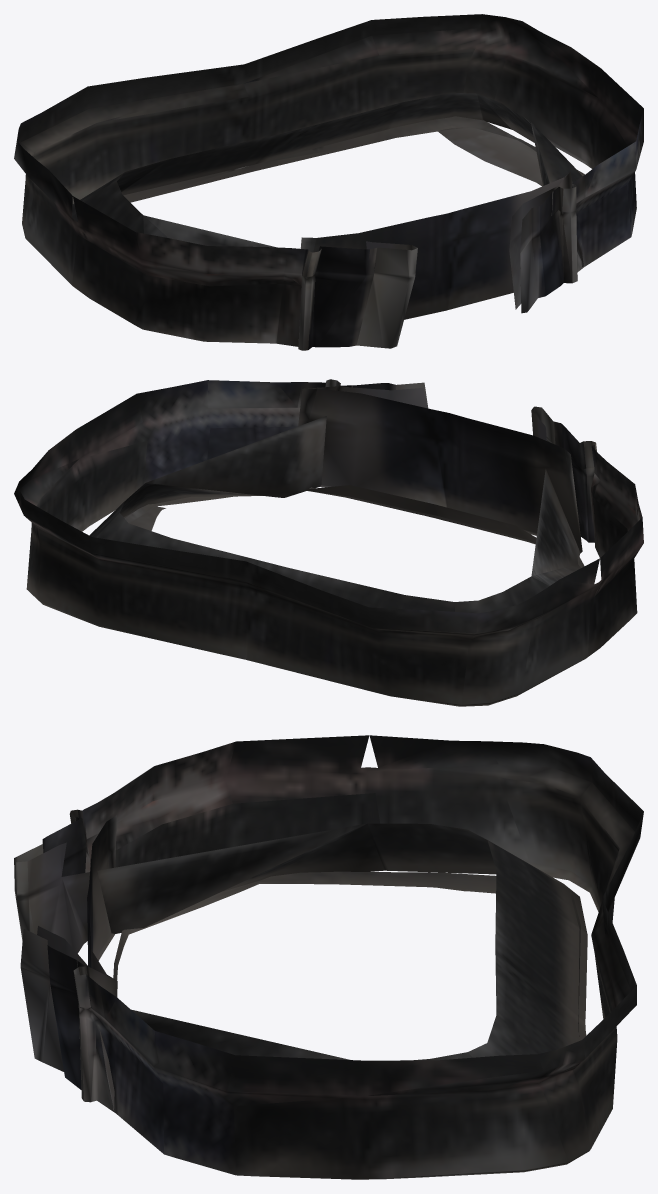
Rendered from LowerTorso.glb.
3 views of the same model, one above another, from view 1: azimuth 30°, elevation 25°; view 2: azimuth 150°, elevation 25°; view 3: azimuth 270°, elevation 25° (orthographic). The views are drawn at different scales.
Parts seen in each view (by area): view 1: LowerTorso; view 2: LowerTorso; view 3: LowerTorso.
Part boxes in pixels (x1,y1,x2,y2): LowerTorso: [14, 14, 643, 350]; LowerTorso: [14, 379, 643, 706]; LowerTorso: [14, 735, 643, 1179].
Bounding box in the file's own units: 2.24 × 0.4 × 1.84.
1 material, 1 textured.
